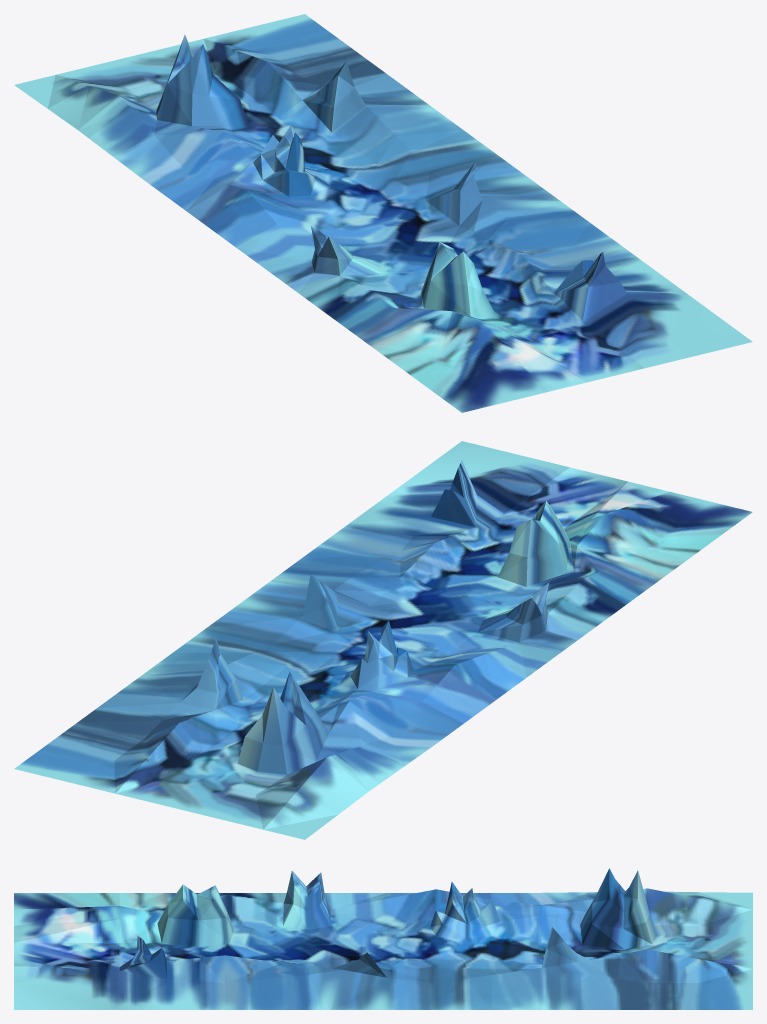
Rendered from binglie.FBX.
The picture shows the model from 3 angles, top to bottom: view 1: azimuth 30°, elevation 25°; view 2: azimuth 150°, elevation 25°; view 3: azimuth 270°, elevation 25°; orthographic projection. The views are drawn at different scales.
Parts seen in each view (by area): view 1: Plane001; view 2: Plane001; view 3: Plane001.
Part boxes in pixels (box(x1,y1,x2,y2)): Plane001: box(14, 14, 752, 412); Plane001: box(14, 441, 752, 839); Plane001: box(14, 868, 752, 1009).
Size of the model in its own units: 3 by 0.7875 by 8.
